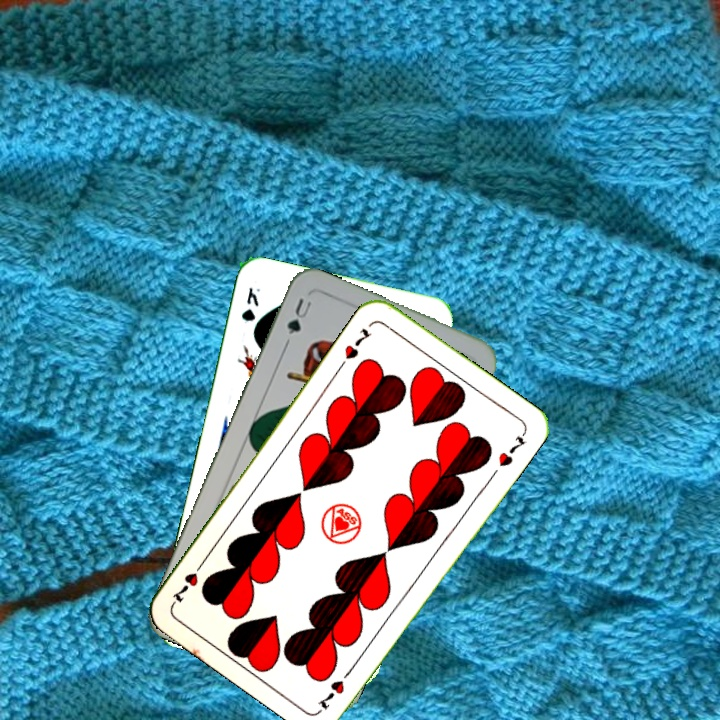GK: (237, 283, 263, 324)
GU: (283, 294, 315, 337)
H7: (314, 663, 357, 713), (335, 324, 375, 371)
